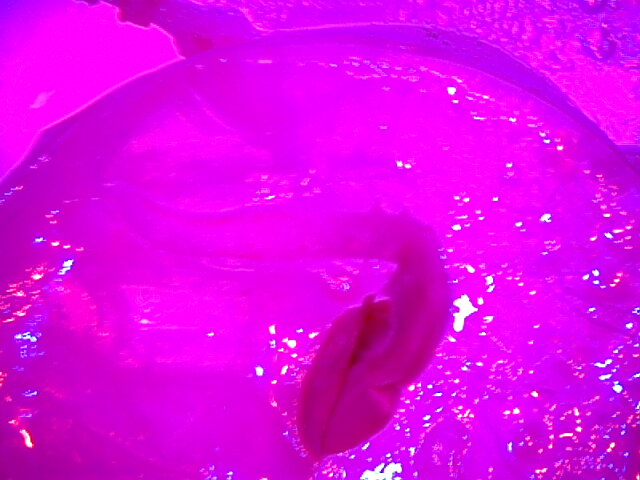sprout: (201, 155, 472, 466)
